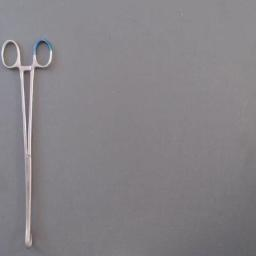Sponge Forceps: (0, 34, 58, 250)
